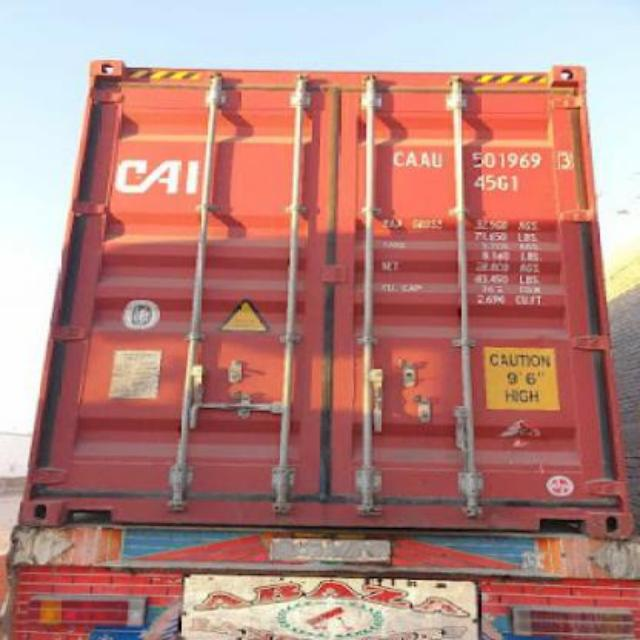0: (484, 152, 496, 170)
1: (498, 152, 507, 168)
3: (558, 150, 572, 170)
5: (472, 152, 484, 170)
6: (518, 152, 532, 170)
9: (506, 152, 518, 170), (531, 152, 541, 170)
A: (418, 150, 432, 170), (406, 150, 416, 170)
C: (392, 150, 406, 170)
U: (431, 152, 444, 168)
